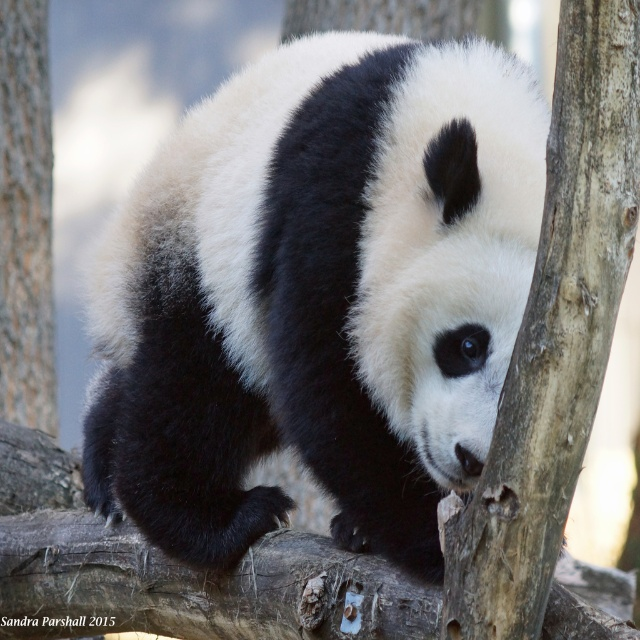Panda: (70, 25, 575, 587)
